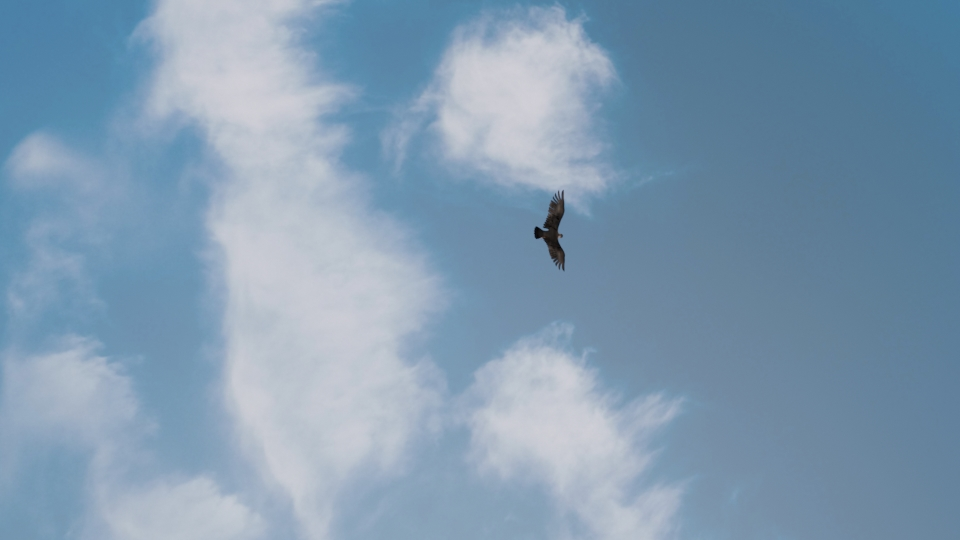bird: (530, 191, 570, 272)
